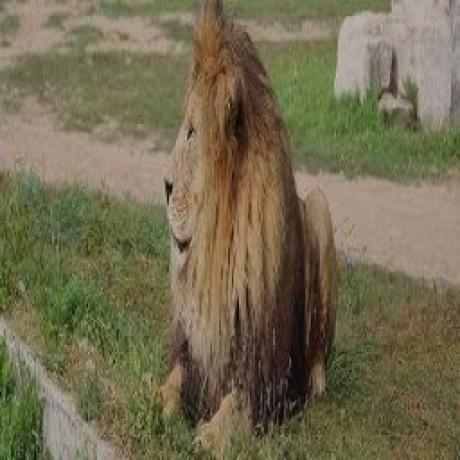Lion: (160, 0, 342, 449)
